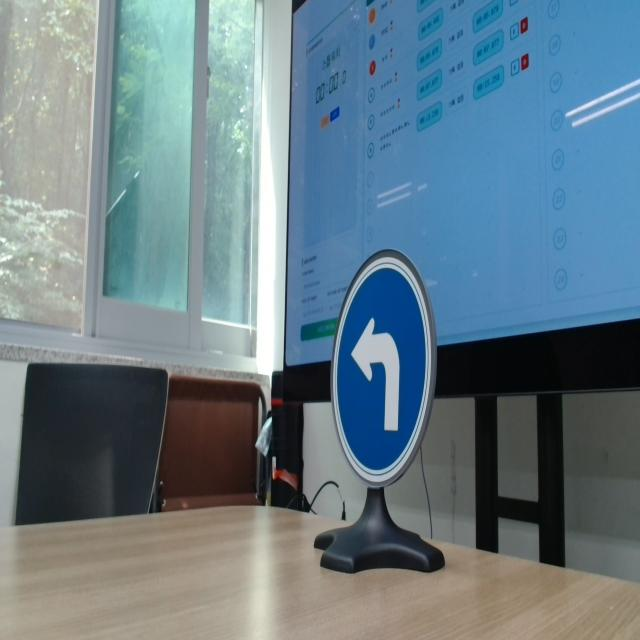left_direction: (330, 236, 454, 510)
